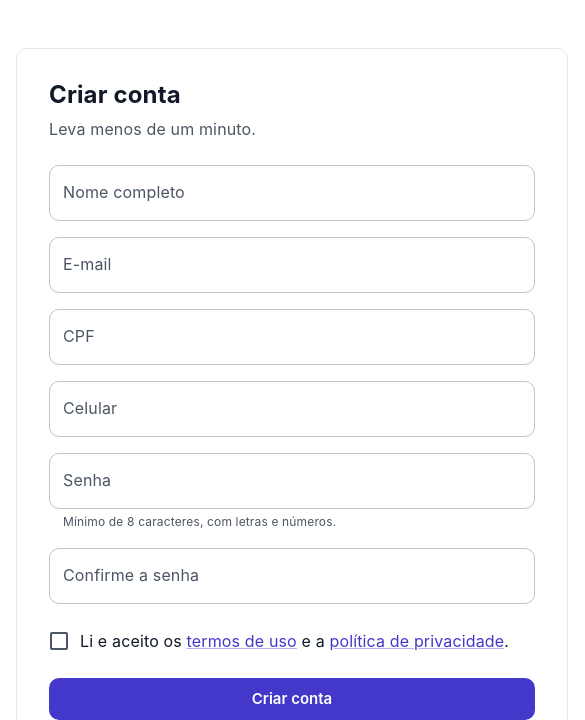
Tela de cadastro › mostra erros de validação e não envia o formulário inválido
The width and height of the screenshot is (585, 720).
Check: the button "Criar conta" is shown, box top-left (49, 678), bottom-right (535, 719)
Type "11111111111" into the field labelled "CPF" at x=292, y=337, box top-left (49, 309), bottom-right (535, 365)
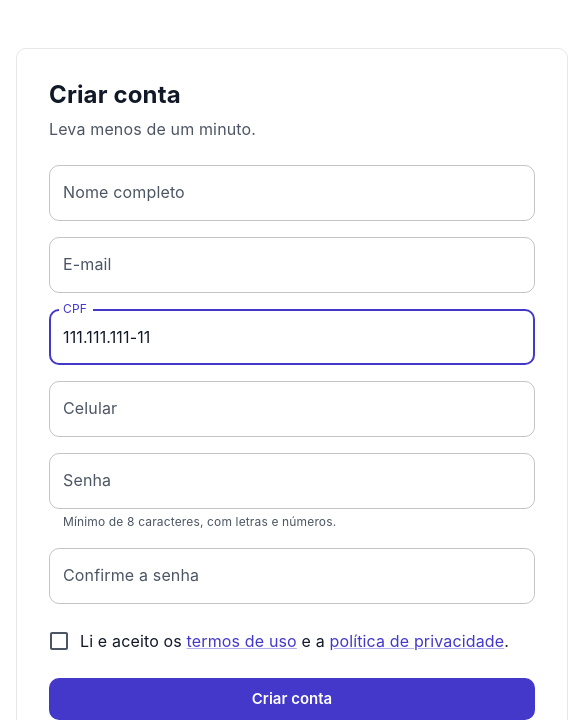
Type "abc" into the password field labelled "Senha" at x=292, y=481, box top-left (49, 453), bottom-right (535, 509)
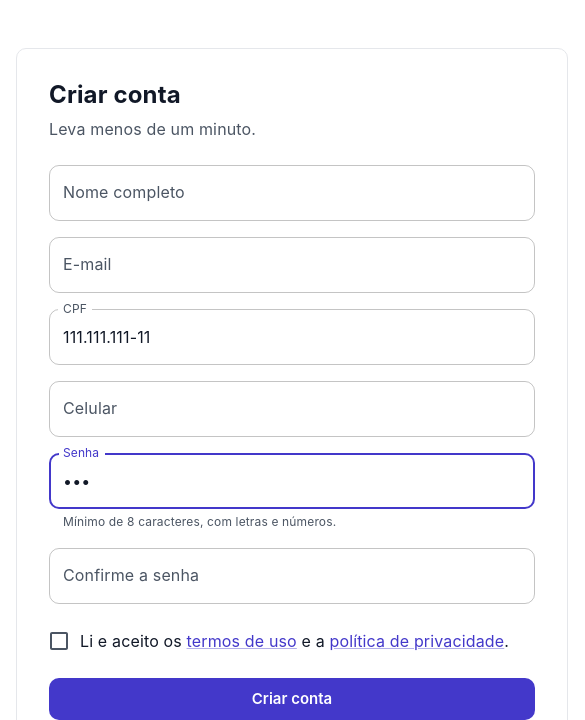
Click the button "Criar conta" at x=292, y=699, box top-left (49, 678), bottom-right (535, 719)
(page scrolled)
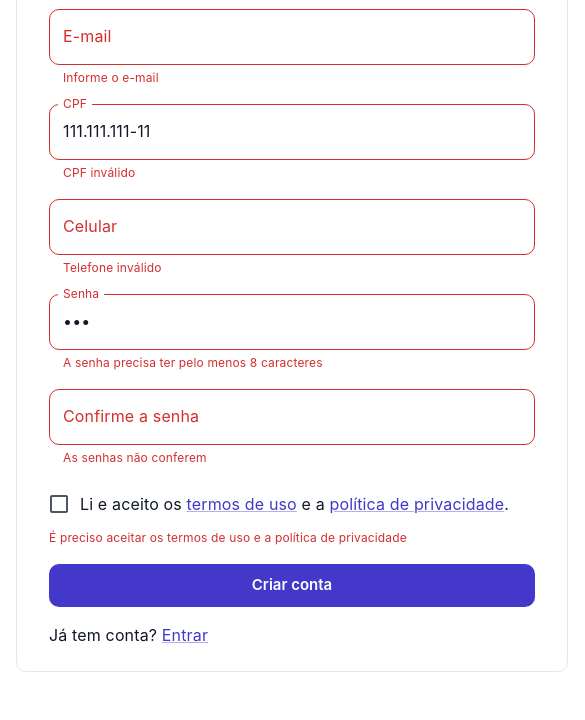
Check: the text "CPF inválido" is shown, box top-left (63, 165), bottom-right (135, 180)
Check: the text "A senha precisa ter pelo menos 8 caracteres" is shown, box top-left (63, 355), bottom-right (323, 370)
Check: the text "É preciso aceitar os termos" is shown, box top-left (49, 530), bottom-right (407, 545)
